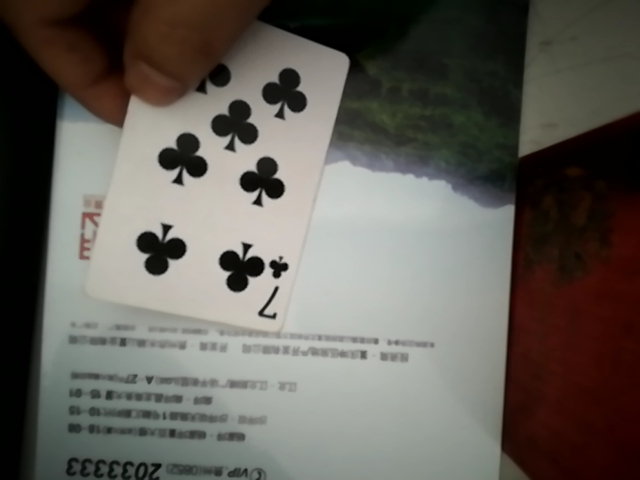mh 7: (79, 30, 349, 343)
